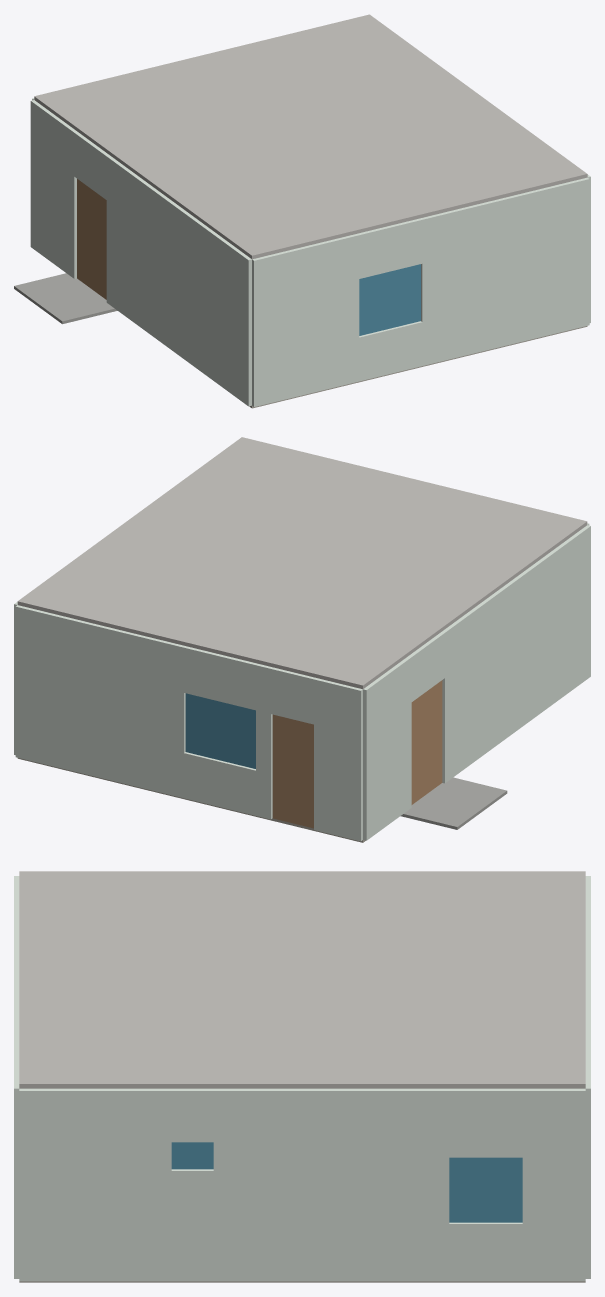
Rendered from 1BHK_05.glb.
The picture shows the model from 3 angles, top to bottom: view 1: azimuth 30°, elevation 25°; view 2: azimuth 150°, elevation 25°; view 3: azimuth 270°, elevation 25°; orthographic projection. The views are drawn at different scales.
Visible parts, largest first — view 1: Roof, Wall_W001, Wall_W003, Wall_W002, Wall_W007, Window_WN03, Door_D_BAL_01, Balcony_BAL_MAIN, Floor; view 2: Roof, Wall_W011, Wall_W012, Wall_W007, Wall_W002, Door_D_ENTRY, Window_WN01, Door_D_BAL_01, Balcony_BAL_MAIN, Floor; view 3: Roof, Wall_W010, Wall_W005, Window_WN02, Wall_W003, Wall_W012, Window_WN04, Floor, Wall_W001, Wall_W011.
Part boxes in pixels (x1,y1,x2,y2): Roof: (34, 14, 587, 259); Wall_W001: (252, 210, 455, 406); Wall_W003: (454, 177, 589, 357); Wall_W002: (150, 187, 251, 406); Wall_W007: (30, 100, 153, 334); Window_WN03: (359, 264, 420, 335); Door_D_BAL_01: (77, 179, 106, 299); Balcony_BAL_MAIN: (14, 273, 117, 324); Floor: (249, 326, 587, 408); Roof: (17, 437, 587, 689); Wall_W011: (153, 639, 362, 841); Wall_W012: (15, 605, 155, 790); Wall_W007: (363, 599, 489, 840); Wall_W002: (487, 525, 590, 750); Door_D_ENTRY: (272, 714, 313, 828); Window_WN01: (185, 693, 255, 768); Door_D_BAL_01: (411, 680, 442, 804); Balcony_BAL_MAIN: (400, 777, 507, 829); Floor: (17, 758, 365, 842); Roof: (19, 871, 585, 1088); Wall_W010: (274, 1088, 585, 1281); Wall_W005: (19, 1088, 274, 1281); Window_WN02: (449, 1157, 522, 1222); Wall_W003: (14, 1003, 19, 1278); Wall_W012: (585, 1003, 590, 1278); Window_WN04: (171, 1142, 213, 1169); Floor: (19, 1281, 585, 1282); Wall_W001: (14, 876, 19, 1003); Wall_W011: (585, 876, 590, 1003).
Size of the model in its own units: 8.61 by 3.18 by 8.38.
